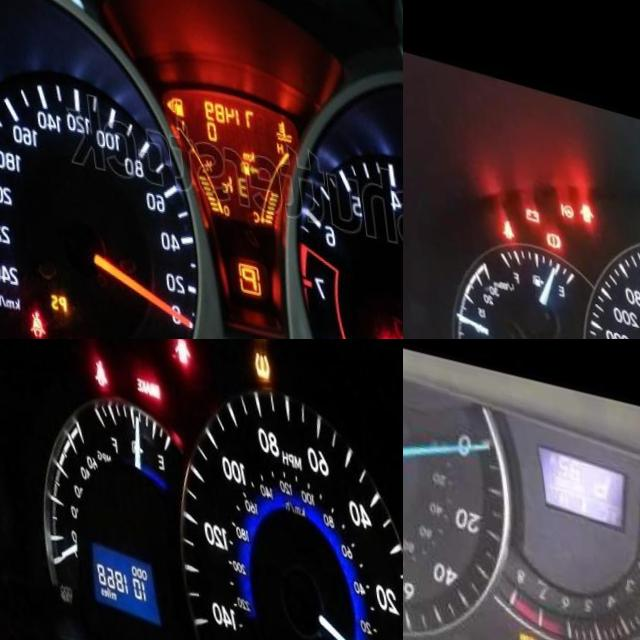Electronic Power Steering: (556, 194, 570, 211)
Seat Belt: (89, 350, 105, 381), (496, 212, 509, 234)
